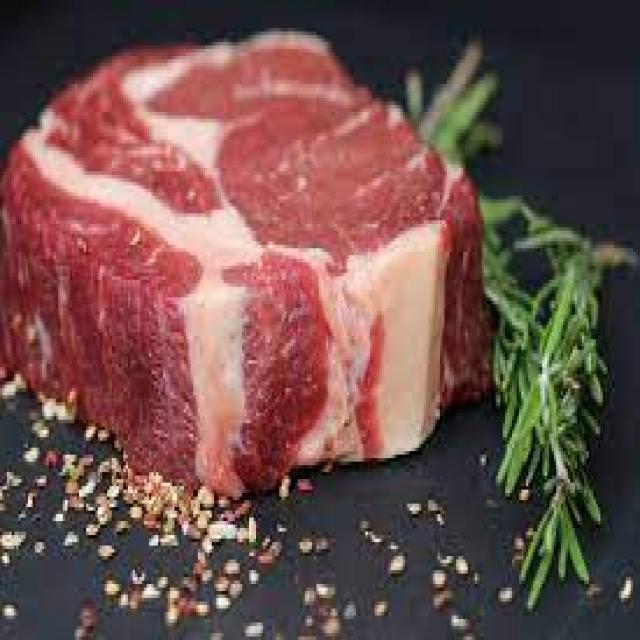Beef: (2, 31, 490, 498)
